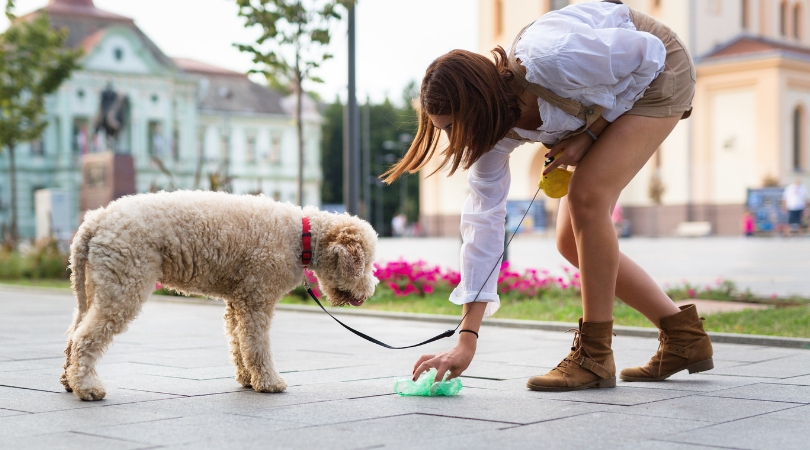Person: (404, 1, 745, 398)
